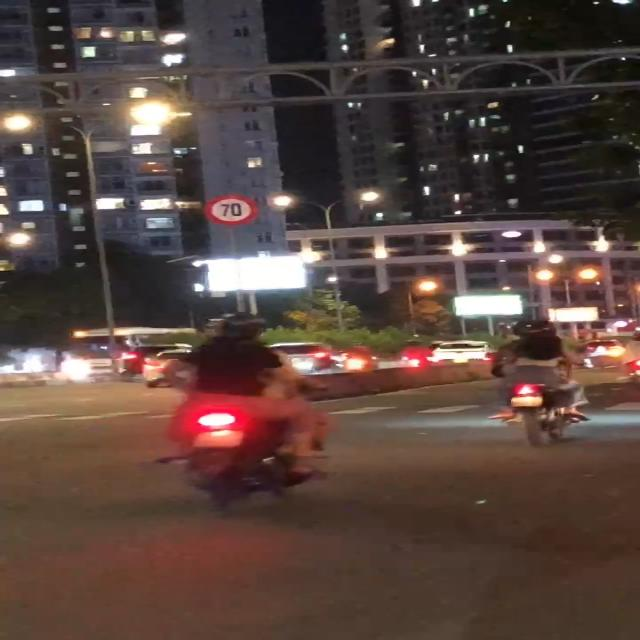Bien bao toc do toi da cho phep: (198, 190, 262, 232)
